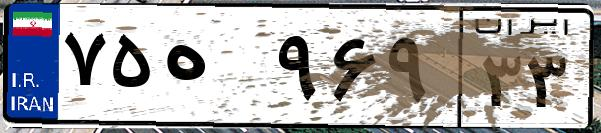3: (475, 38, 525, 113), (525, 38, 570, 115)
5: (110, 28, 158, 98)
6: (330, 28, 385, 110)
7: (57, 26, 110, 100)
9: (270, 28, 330, 110), (385, 28, 445, 110)
ه: (158, 20, 270, 120)
